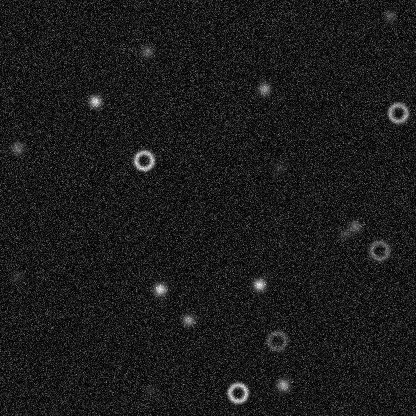Ring: (225, 380, 249, 404), (367, 238, 391, 262), (264, 328, 288, 352), (386, 100, 410, 124), (131, 148, 155, 172)
Spot: (271, 159, 287, 175), (346, 218, 362, 234), (151, 281, 167, 297), (251, 276, 267, 292), (141, 381, 157, 397), (138, 43, 154, 59), (9, 139, 25, 155), (9, 268, 25, 284), (381, 8, 397, 24), (274, 377, 290, 393), (336, 225, 352, 241), (180, 311, 196, 327), (86, 93, 102, 109), (256, 80, 272, 96)
